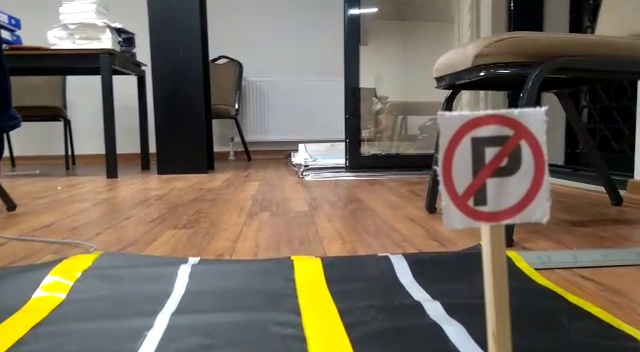park_yapilmaz: (438, 114, 557, 228)
